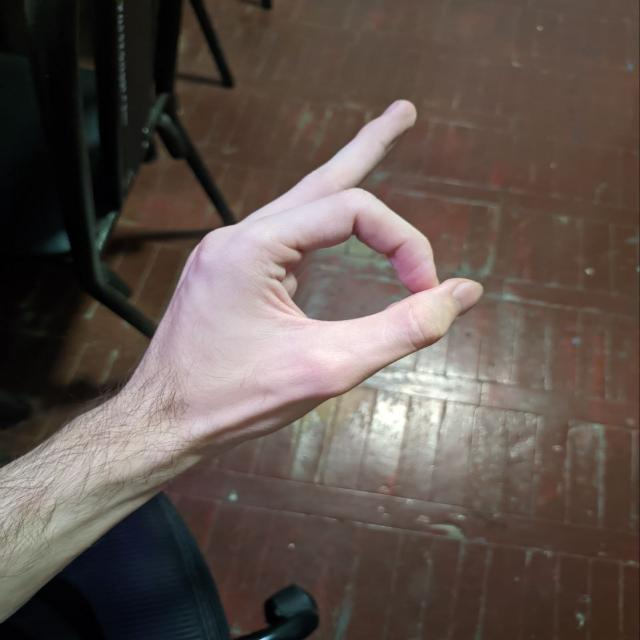o: (148, 80, 516, 407)
